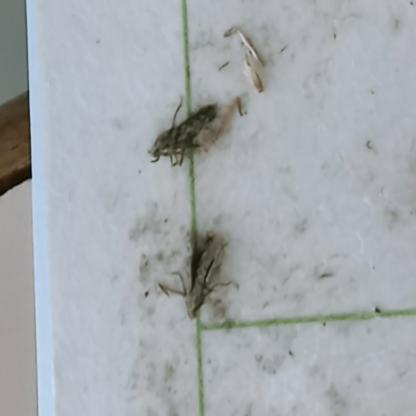prays_oleae: (142, 63, 238, 186), (160, 218, 244, 342)
